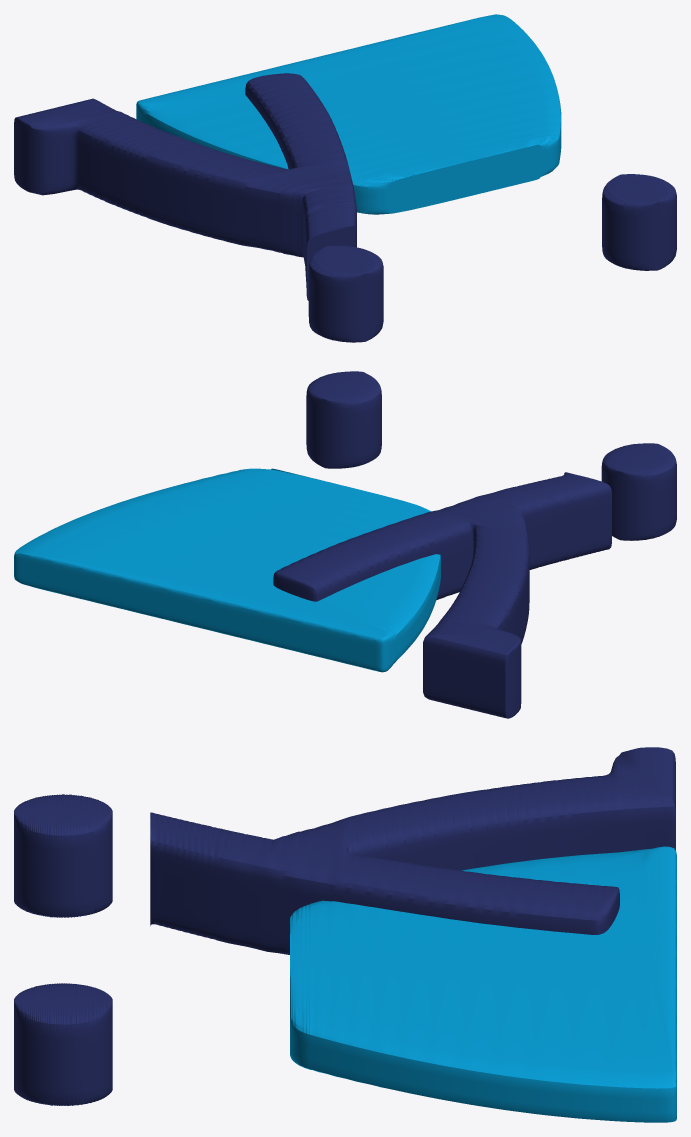
File: tray.glb
3 views of the same model, one above another, from view 1: azimuth 30°, elevation 25°; view 2: azimuth 150°, elevation 25°; view 3: azimuth 270°, elevation 25° (orthographic). The views are drawn at different scales.
Visible parts, largest first — view 1: Curve.005; view 2: Curve.005; view 3: Curve.005.
Part boxes in pixels (x1,y1,x2,y2): Curve.005: (14,14,676,342); Curve.005: (14,371,676,718); Curve.005: (14,747,676,1122).
Size of the model in its own units: 3.29 by 0.4378 by 2.91.
